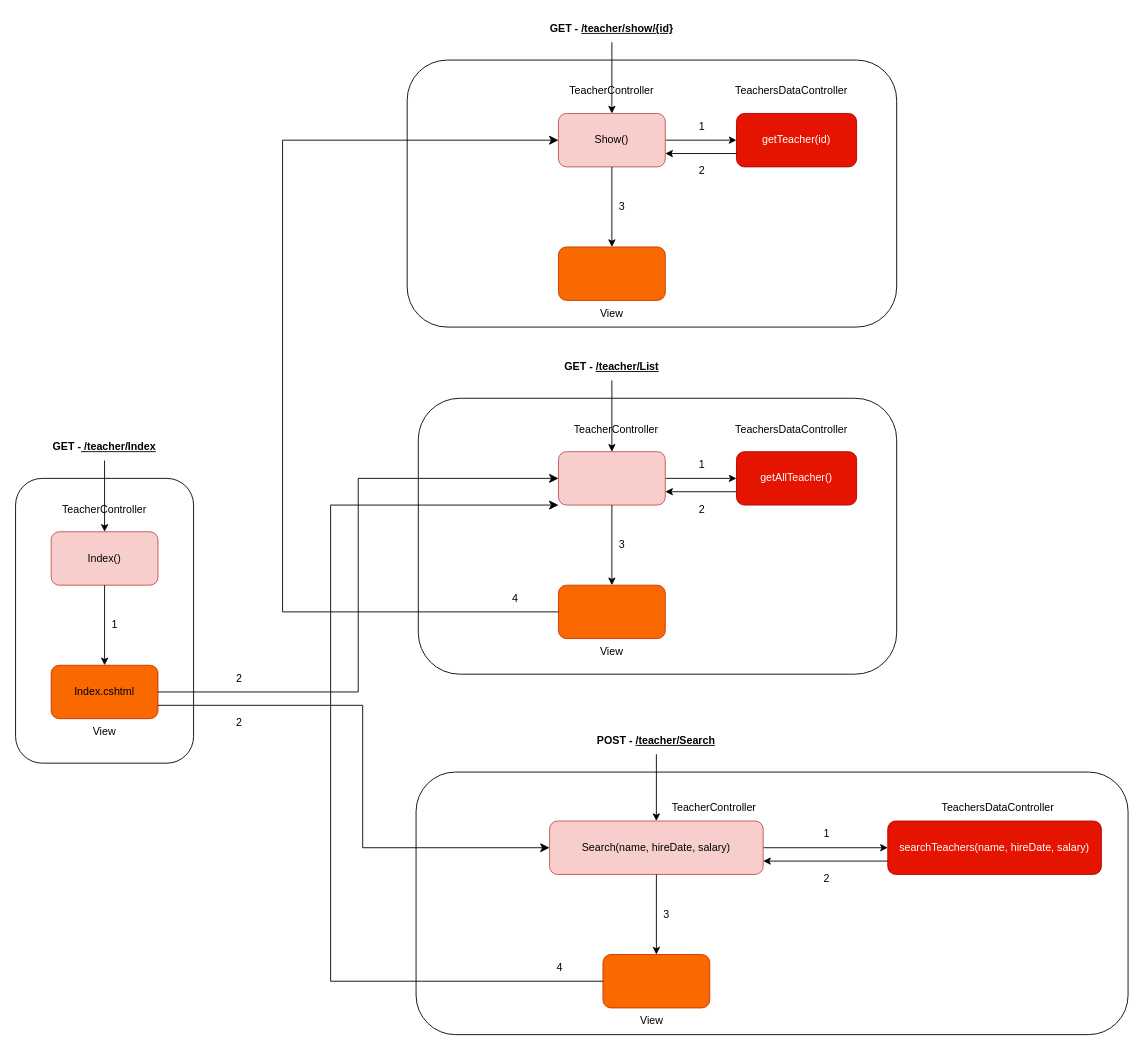
The diagram is 1144 pixels wide and 1050 high, and some of its shapes have lost their labels. The box of each missing label's shape, as (x1, y1, x2, y2) in pixels:
List(): (558, 451, 665, 505)
List.cshtml: (558, 584, 665, 639)
Search.cshtml: (602, 954, 710, 1008)
Show.cshtml: (558, 246, 665, 300)
